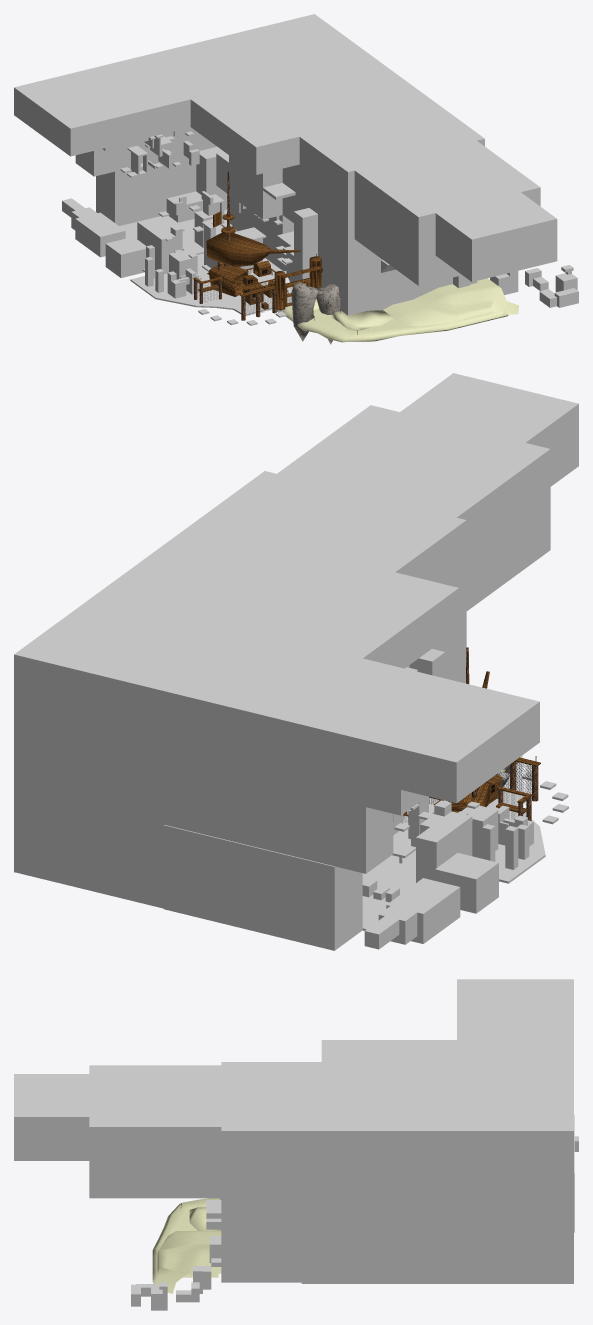
The model's file is Island.glb.
3 views of the same model, one above another, from view 1: azimuth 30°, elevation 25°; view 2: azimuth 150°, elevation 25°; view 3: azimuth 270°, elevation 25° (orthographic). The views are drawn at different scales.
Parts seen in each view (by area): view 1: Cube-col_151, Cube-col_153, Cube-col_049, Cube-col_152, Cube-col_154, Cube-col_159, Cube-col_091, sand mound 3-col, sand-col, Cube-col_138, Cube-col_156, pirate top boat-col (+17 smaller); view 2: Cube-col_151, Cube-col_153, Cube-col_152, Cube-col_049, Cube-col_138, Cube-col_139, Cube-col_091, Cube-col_150, Cube-col_148, Cube-col_159, Cube-col_154, Cube-col_079 (+10 smaller); view 3: Cube-col_151, Cube-col_049, Cube-col_153, Cube-col_139, Cube-col_152, Cube-col_154, Cube-col_145, Cube-col_142, Cube-col_144, Cube-col_159, sand mound 3-col, Cube-col_148 (+5 smaller).
Boxes of the visible parts, x1,y1,x2,y2 form: Cube-col_151: (14,14,370,156); Cube-col_153: (354,140,540,285); Cube-col_049: (309,110,484,315); Cube-col_152: (234,55,445,171); Cube-col_154: (435,192,557,281); Cube-col_159: (190,89,299,174); Cube-col_091: (96,155,196,225); sand mound 3-col: (383,278,518,326); sand-col: (283,305,508,342); Cube-col_138: (75,127,216,176); Cube-col_156: (216,151,282,219); pirate top boat-col: (206,233,300,267); Cube-col_151: (14,593,539,803); Cube-col_153: (277,405,550,610); Cube-col_152: (97,513,409,642); Cube-col_049: (208,471,466,683); Cube-col_138: (164,758,393,873); Cube-col_139: (14,788,163,908); Cube-col_091: (215,837,362,950); Cube-col_150: (14,695,426,815); Cube-col_148: (14,721,164,824); Cube-col_159: (299,572,458,668); Cube-col_154: (400,373,578,486); Cube-col_079: (163,825,215,921); Cube-col_151: (457,979,573,1159); Cube-col_049: (221,1062,301,1282); Cube-col_153: (89,1065,221,1198); Cube-col_139: (301,1225,573,1283); Cube-col_152: (301,1062,456,1159); Cube-col_154: (14,1074,89,1160); Cube-col_145: (356,1160,480,1191); Cube-col_142: (356,1191,470,1224); Cube-col_144: (301,1160,356,1224); Cube-col_159: (321,1040,456,1061); sand mound 3-col: (153,1231,221,1293); Cube-col_148: (535,1178,573,1224).
Size of what is drawn, in the model's own units: 257 by 123 by 338.
7 materials, 5 textured.
